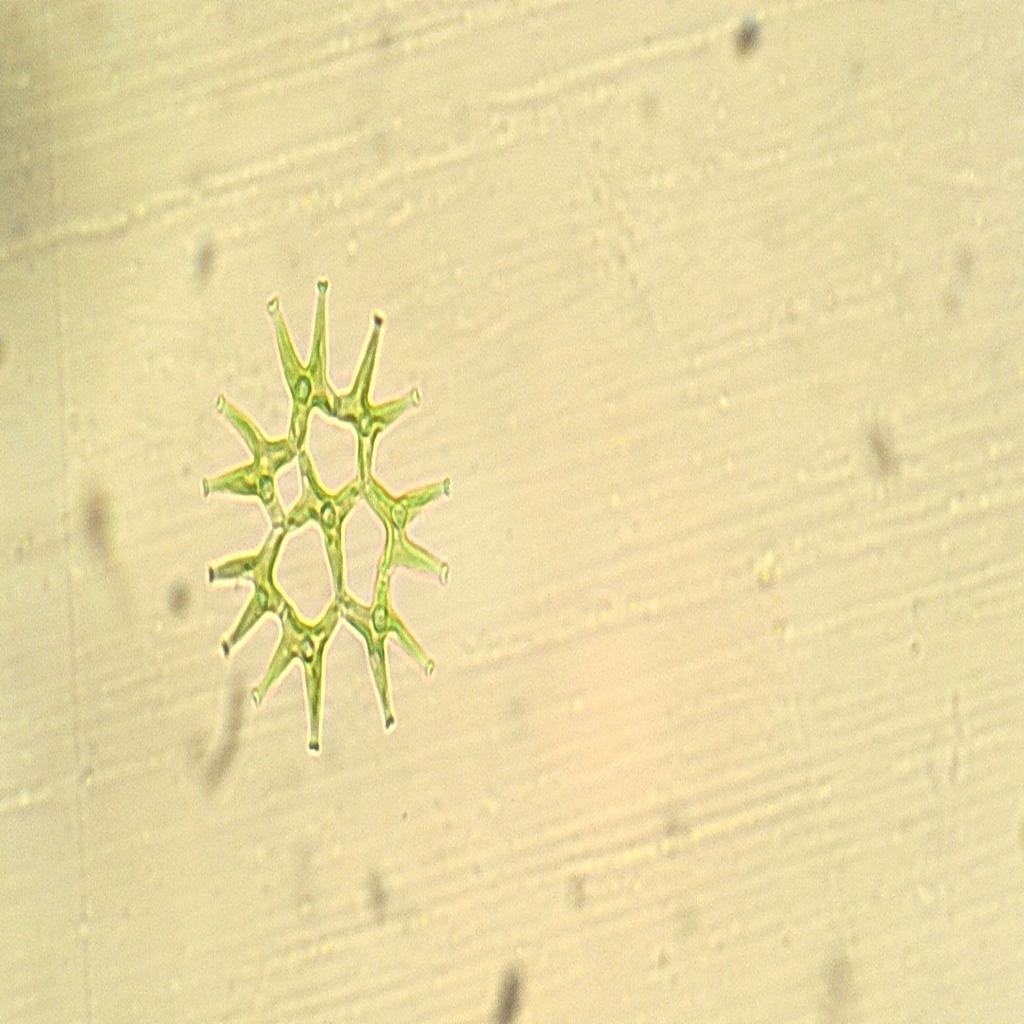Pediastrum_75T: (189, 238, 467, 784)
